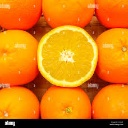orange: (36, 26, 98, 89)
